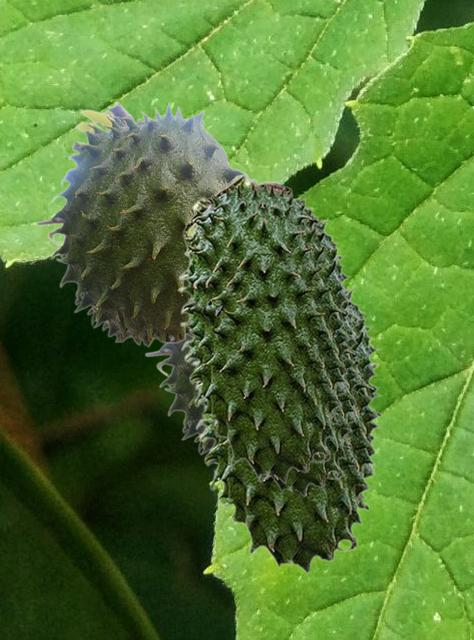guyabano: (191, 280, 383, 573), (177, 172, 354, 483), (35, 99, 243, 347), (144, 336, 379, 455), (257, 295, 362, 496)
